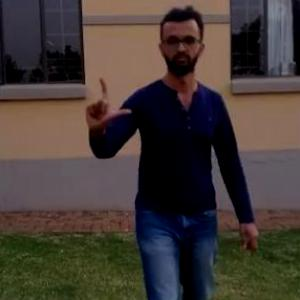land_hand: (76, 76, 136, 138)
